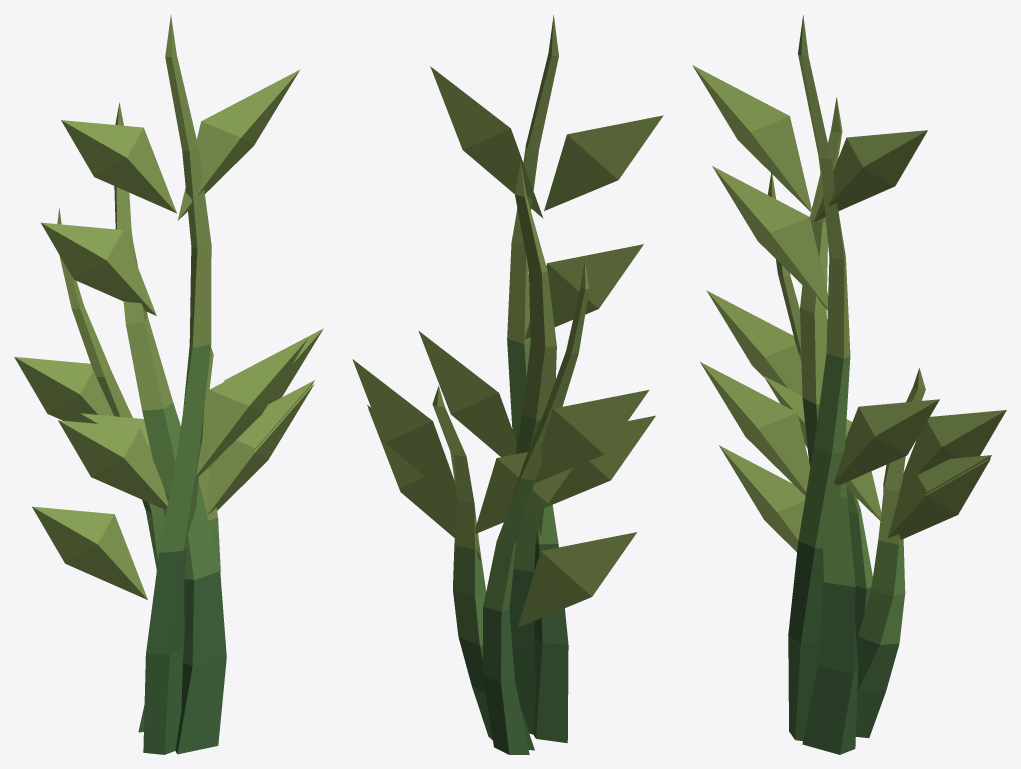
Rendered from Kelp_1.glb.
3 views of the same model, side by side, from view 1: azimuth 30°, elevation 25°; view 2: azimuth 150°, elevation 25°; view 3: azimuth 330°, elevation 25° (orthographic). The views are drawn at different scales.
Visible parts, largest first — view 1: Kelp_1; view 2: Kelp_1; view 3: Kelp_1.
Part boxes in pixels (x1=…): Kelp_1: x1=14, y1=15, x2=323, y2=754; Kelp_1: x1=352, y1=15, x2=663, y2=754; Kelp_1: x1=692, y1=15, x2=1006, y2=754.
Bounding box in the file's own units: 1.08 × 2.48 × 0.2989.
